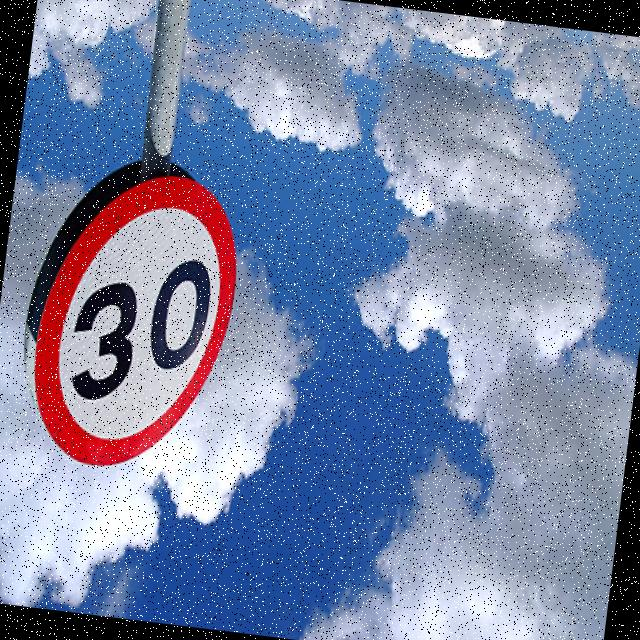speed_limit_30: (11, 150, 274, 507)
